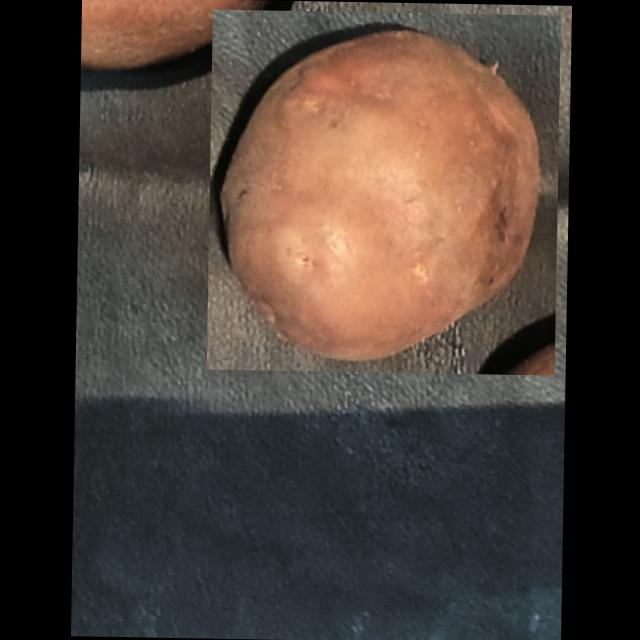Diseased-fungal potato: (206, 8, 560, 374)
